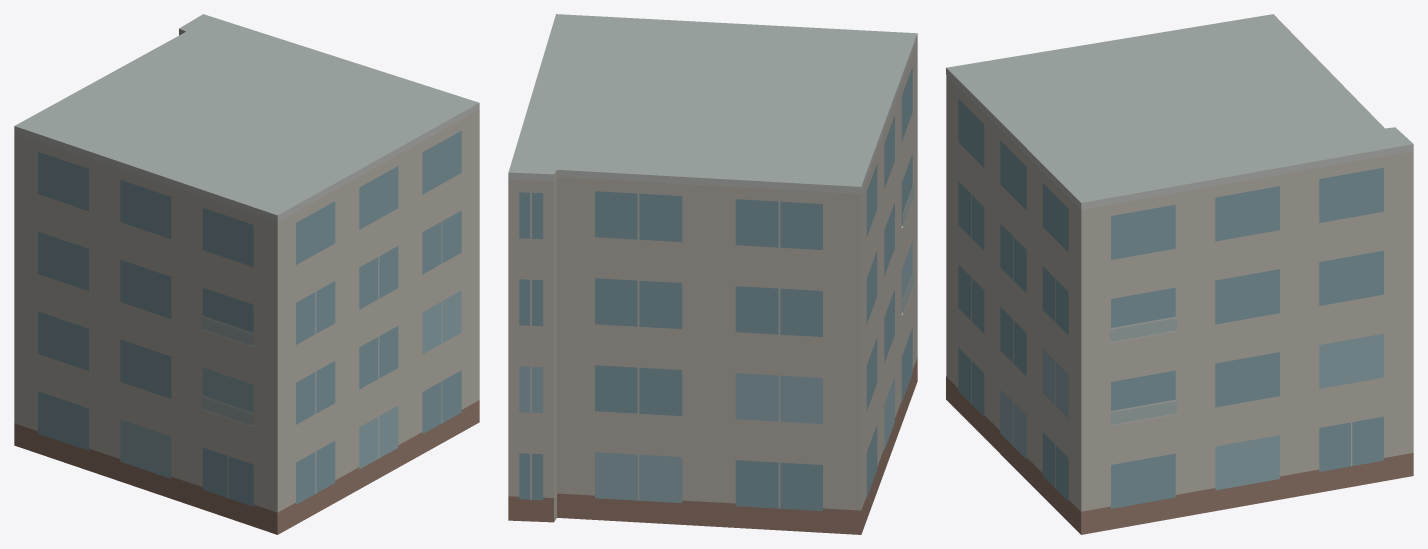
The model's file is survey-upis-32943943.glb.
3 views of the same model, side by side, from view 1: azimuth 30°, elevation 25°; view 2: azimuth 150°, elevation 25°; view 3: azimuth 270°, elevation 25° (orthographic). The views are drawn at different scales.
Visible parts, largest first — view 1: survey-upis-32943943.tmp; view 2: survey-upis-32943943.tmp; view 3: survey-upis-32943943.tmp.
Boxes of the visible parts, <box> form: survey-upis-32943943.tmp: <box>14,14,479,534</box>; survey-upis-32943943.tmp: <box>508,14,917,534</box>; survey-upis-32943943.tmp: <box>946,14,1413,534</box>.
Size of the model in its own units: 14.42 by 11.8 by 15.07.
